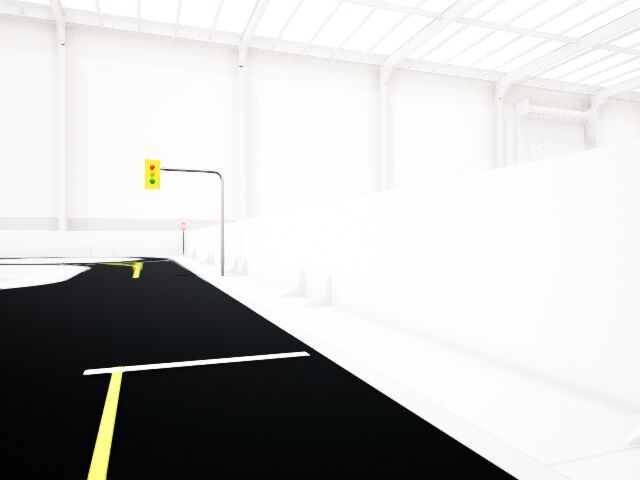red: (145, 160, 159, 189)
stopsign: (178, 220, 189, 232)
